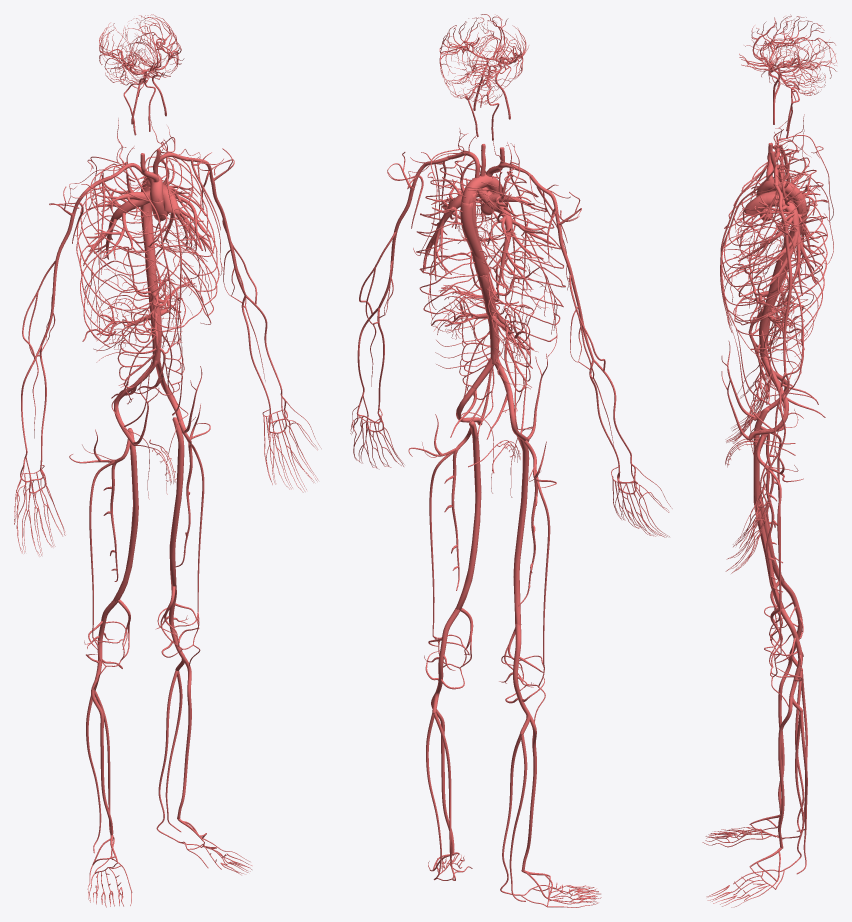
Rendered from arterias.glb.
The picture shows the model from 3 angles, left to right: view 1: azimuth 30°, elevation 25°; view 2: azimuth 150°, elevation 25°; view 3: azimuth 270°, elevation 25°; orthographic projection. The views are drawn at different scales.
Visible parts, largest first — view 1: FJ1961, FJ1975, FJ2074, FJ2143, FJ3427, FJ2065; view 2: FJ1961, FJ1975, FJ2074, FJ3427, FJ2143; view 3: FJ1975, FJ1961, FJ2074, FJ2143, FJ2065, FJ1932, FJ2086, FJ2219, FJ3427, FJ2130, FJ2094, FJ2063 (+10 smaller).
Boxes of the visible parts, x1,y1,x2,y2 form: FJ1961: (76, 166, 166, 347); FJ1975: (140, 156, 219, 322); FJ2074: (169, 417, 184, 587); FJ2143: (113, 428, 138, 602); FJ3427: (140, 184, 159, 365); FJ2065: (177, 657, 191, 818); FJ1961: (468, 189, 565, 352); FJ1975: (416, 179, 503, 327); FJ2074: (455, 421, 481, 611); FJ3427: (460, 201, 498, 360); FJ2143: (513, 434, 529, 625); FJ1975: (721, 179, 827, 353); FJ1961: (723, 157, 827, 305); FJ2074: (753, 434, 784, 610); FJ2143: (753, 407, 784, 584); FJ2065: (778, 696, 792, 847); FJ1932: (759, 272, 785, 360); FJ2086: (781, 608, 802, 712); FJ2219: (783, 231, 792, 372); FJ3427: (760, 199, 806, 358); FJ2130: (778, 657, 792, 814); FJ2094: (756, 435, 782, 592); FJ2063: (766, 467, 781, 653).
Size of the model in its own units: 0.6489 by 1.7 by 0.245.
